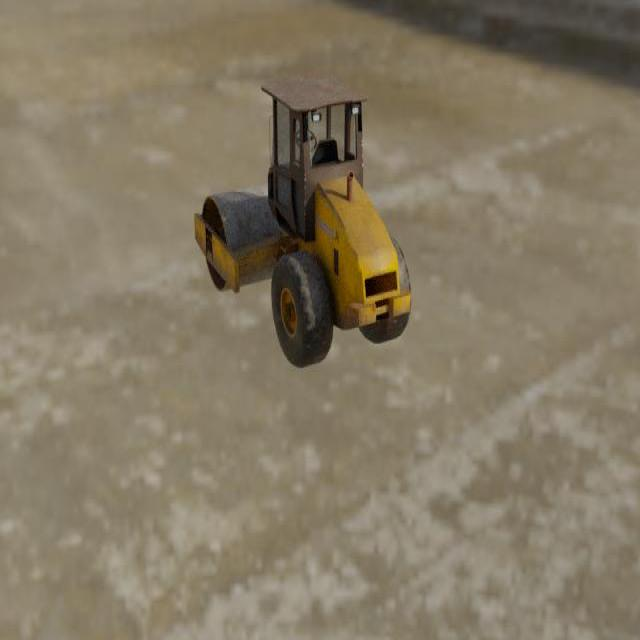Roller: (193, 72, 411, 368)
